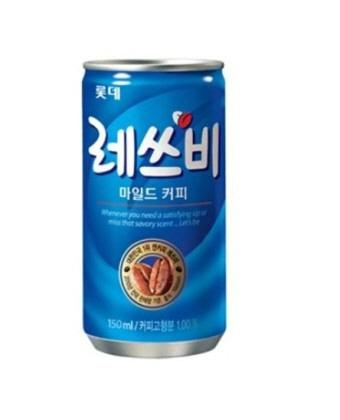letsbe: (79, 55, 234, 365)
